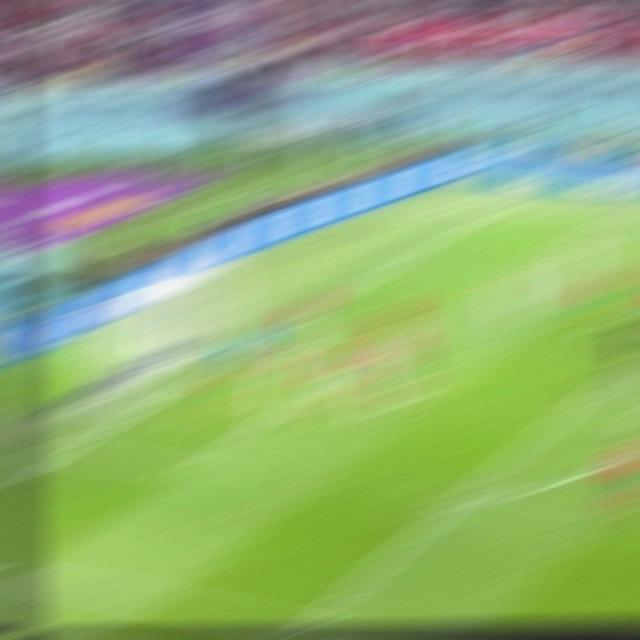bigarea_bottom_inner: (278, 612, 329, 628)
bigarea_top_outter: (363, 265, 405, 279)
bottom_arc_area_intersection: (439, 486, 484, 509)
corner: (469, 209, 512, 218)
smallarea_bottom_inner: (162, 455, 212, 483)
smallarea_bottom_outter: (49, 440, 93, 461)
smallarea_top_inner: (363, 335, 406, 352)
smallarea_top_outter: (265, 321, 305, 334)
top_arc_area_intersection: (580, 378, 620, 394)
